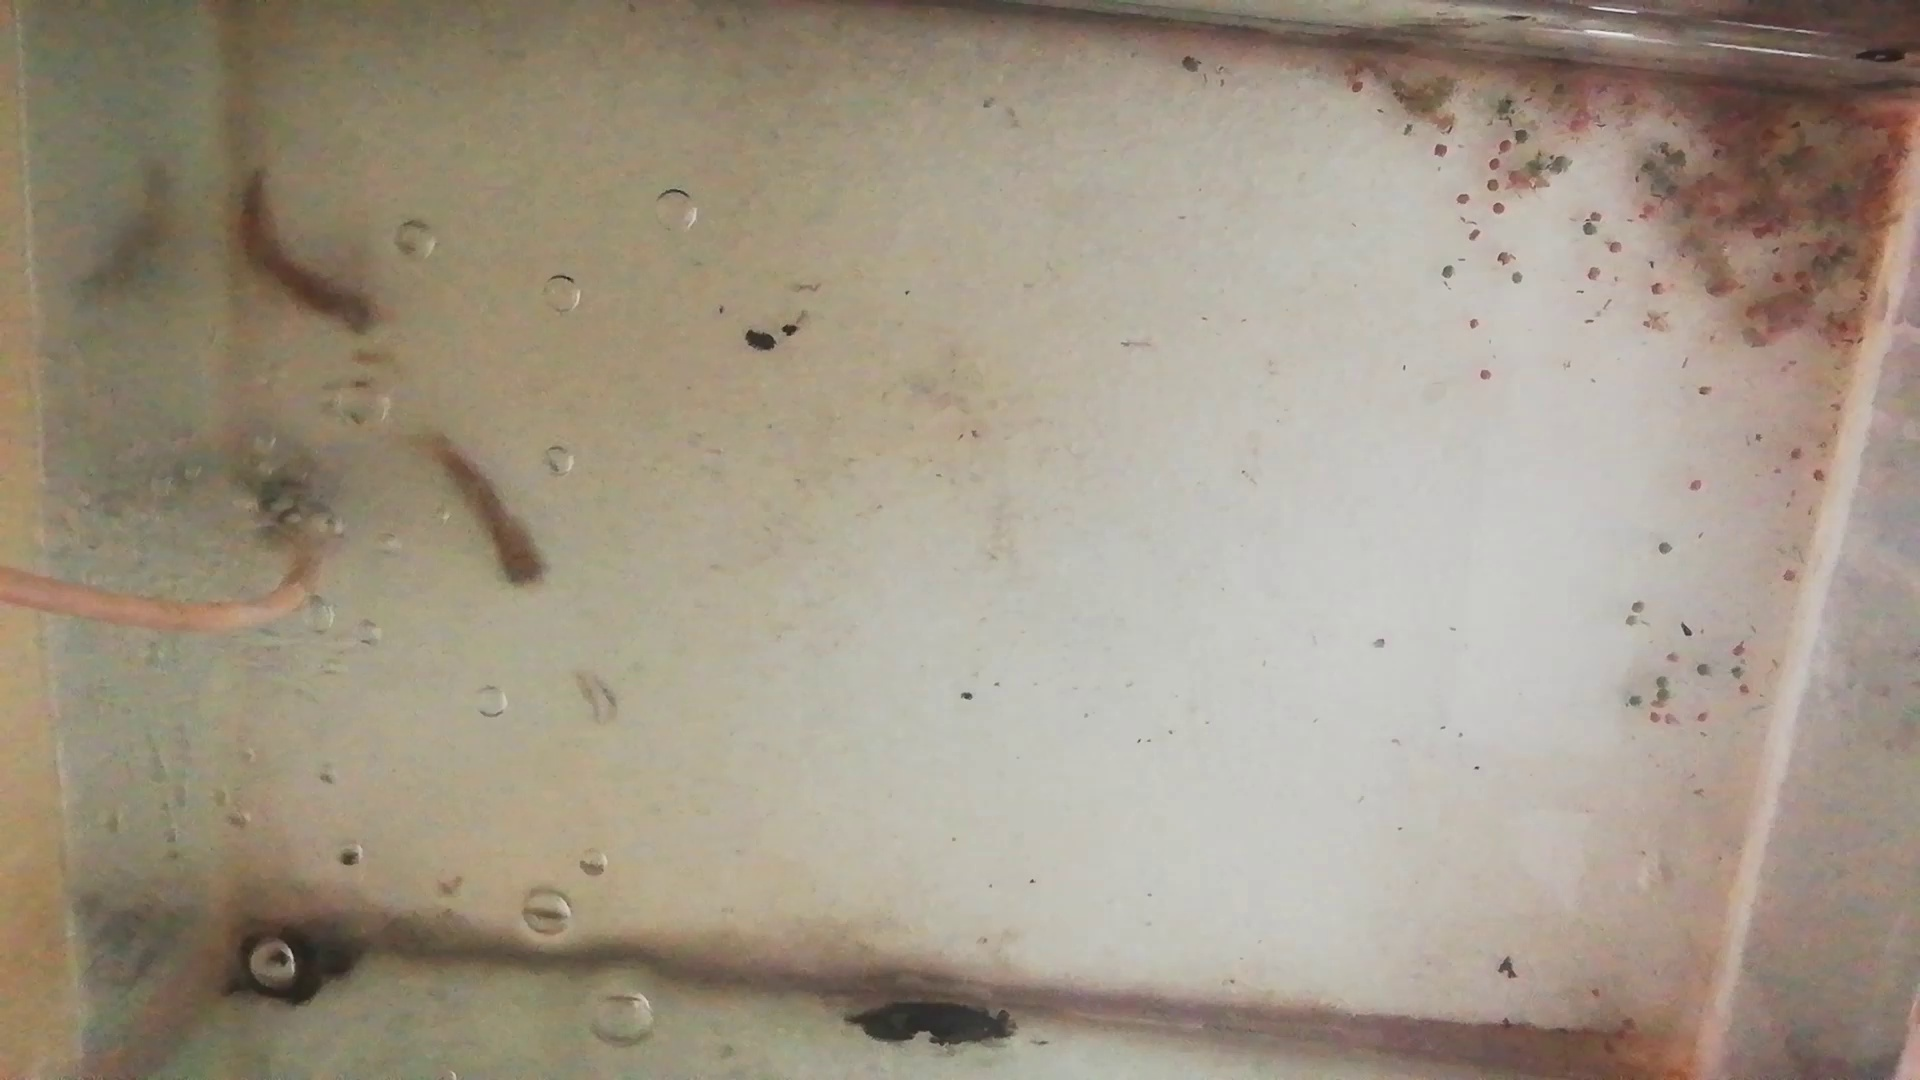fish: (237, 166, 378, 335), (423, 443, 549, 595)
